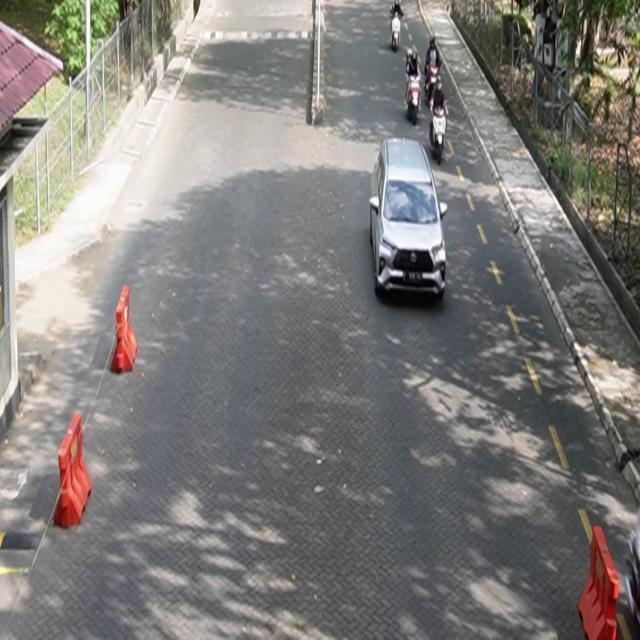car: (370, 137, 449, 302)
